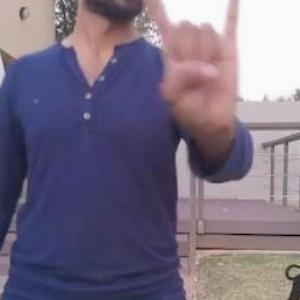takeoff-hand: (140, 0, 255, 140)
